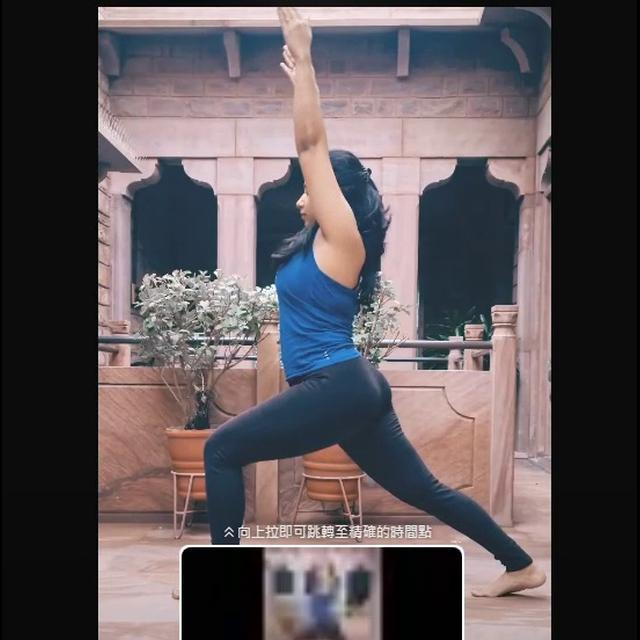Warrior_I: (176, 2, 545, 598)
